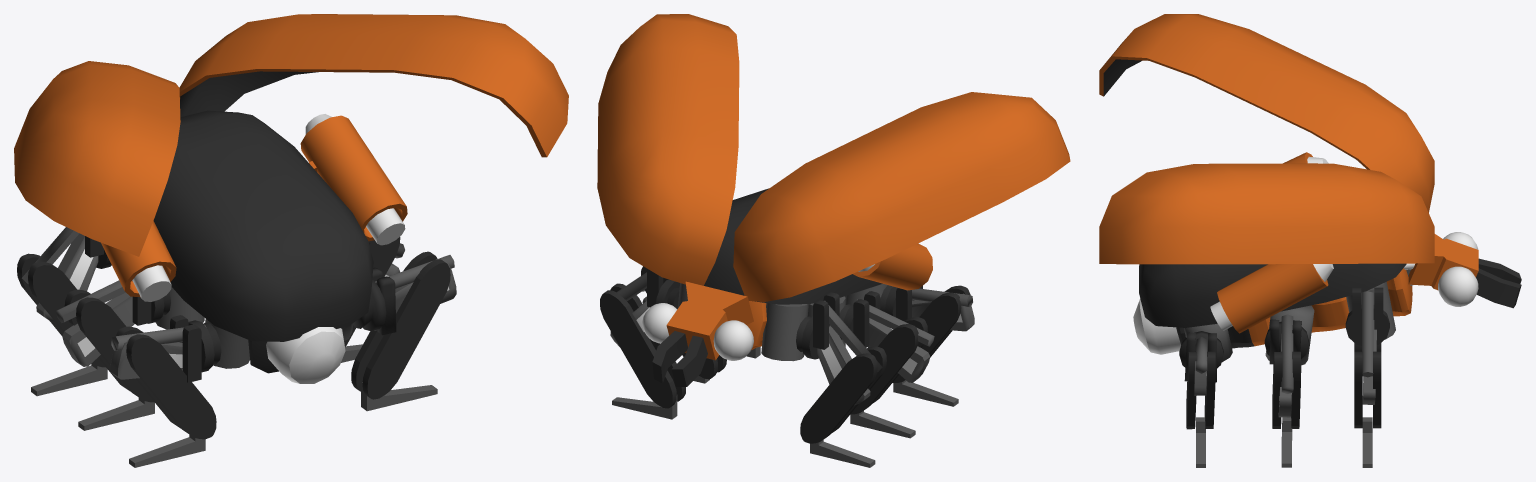
The model's file is Fodder11CombinedMesh.fbx.
The picture shows the model from 3 angles, left to right: view 1: azimuth 30°, elevation 25°; view 2: azimuth 150°, elevation 25°; view 3: azimuth 270°, elevation 25°; orthographic projection. The views are drawn at different scales.
Visible parts, largest first — view 1: Cube.031; view 2: Cube.031; view 3: Cube.031.
Part boxes in pixels (x1=…): Cube.031: x1=14, y1=14, x2=568, y2=467; Cube.031: x1=597, y1=14, x2=1070, y2=467; Cube.031: x1=1099, y1=14, x2=1521, y2=467.
Size of the model in its own units: 273 by 183 by 228.
